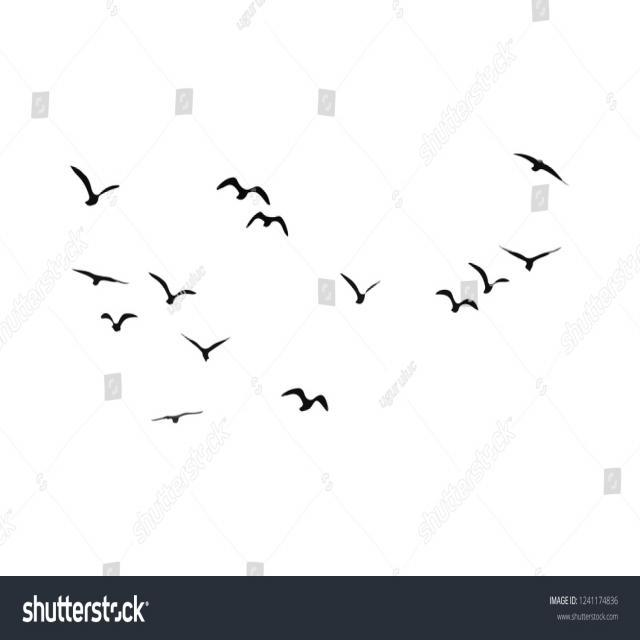bird: (329, 256, 416, 357), (247, 337, 336, 421), (498, 123, 582, 211), (449, 211, 518, 303), (190, 140, 276, 207), (62, 129, 132, 210), (62, 232, 142, 298), (143, 239, 206, 313), (170, 308, 230, 374), (235, 194, 305, 248), (502, 219, 566, 276), (426, 266, 476, 327), (148, 380, 204, 434), (96, 313, 140, 352)
